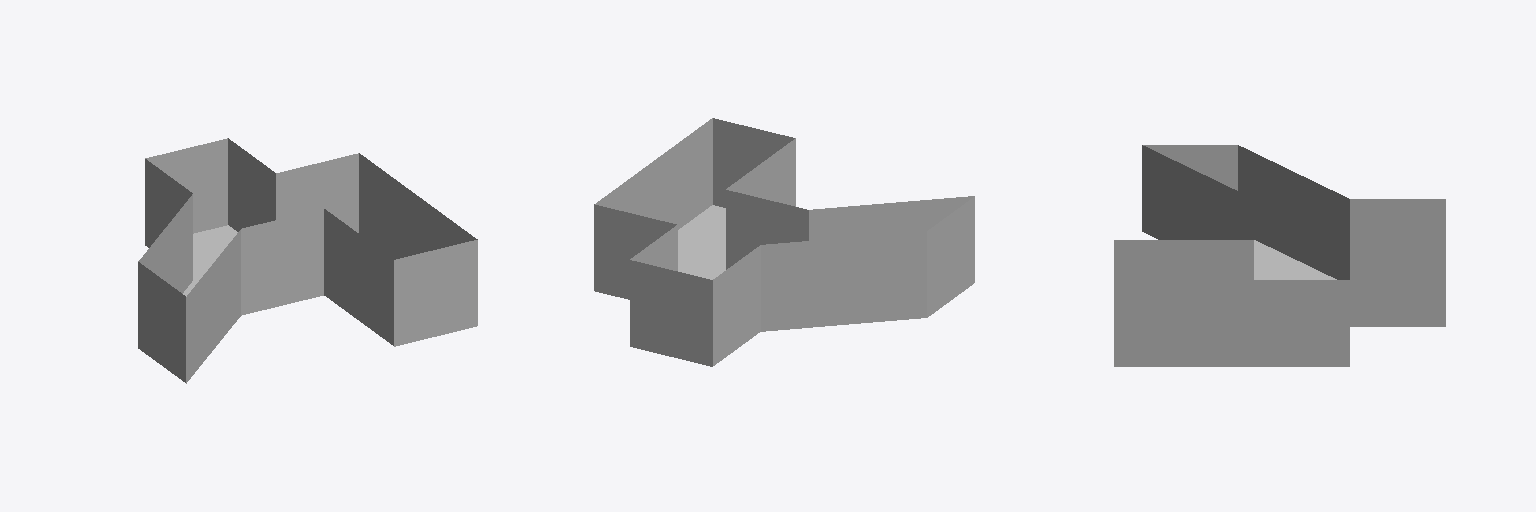
File: formf_randgeval.obj
3 renders of one model, left to right at view 1: azimuth 30°, elevation 25°; view 2: azimuth 150°, elevation 25°; view 3: azimuth 270°, elevation 25°, orthographic.
Visible parts, largest first — view 1: Plane; view 2: Plane; view 3: Plane.
Part boxes in pixels (x1,y1,x2,y2): Plane: (138, 138, 477, 383); Plane: (594, 118, 974, 366); Plane: (1114, 145, 1445, 366).
Size of the model in its own units: 10 by 3 by 10.39.